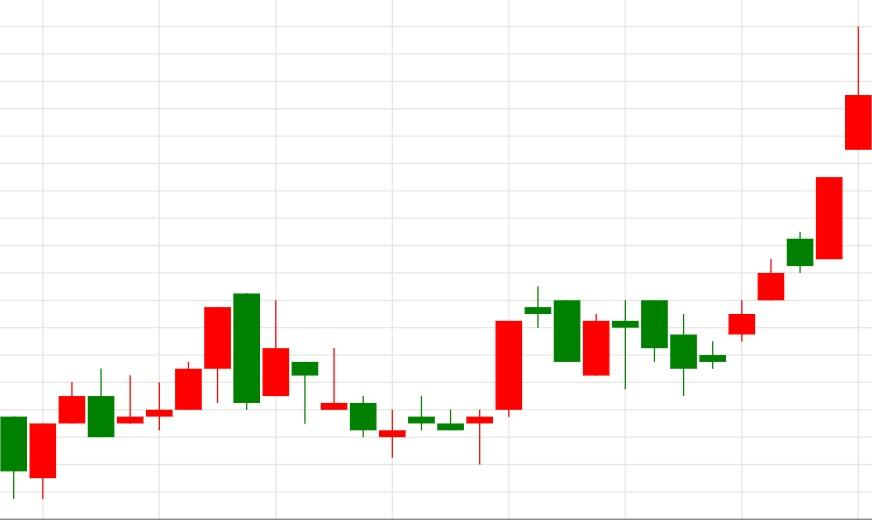bearish_engulfing_fall: (0, 293, 261, 499)
